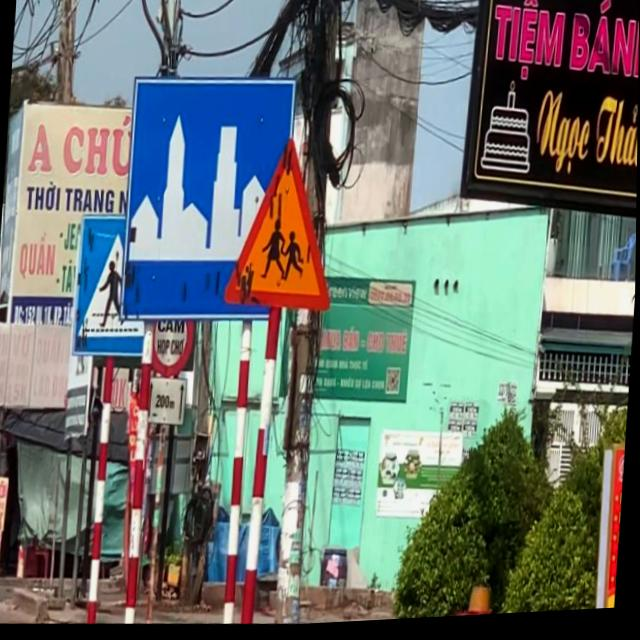Tre em: (219, 128, 347, 327)
